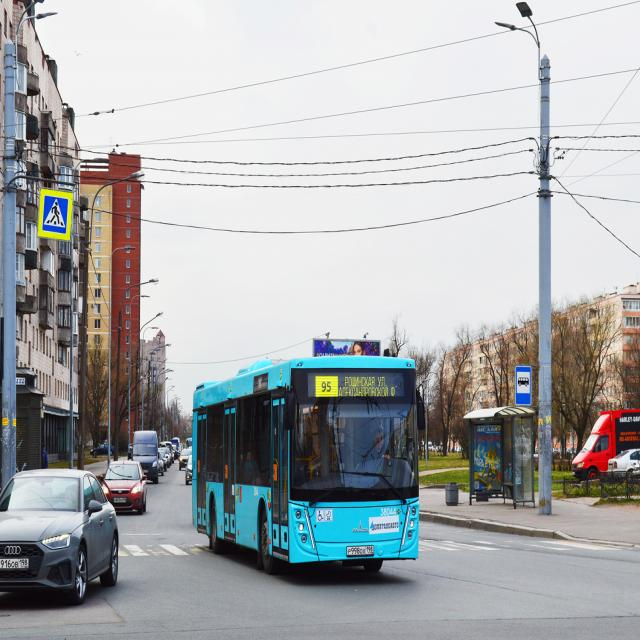number-of-bus: (320, 378, 334, 395)
